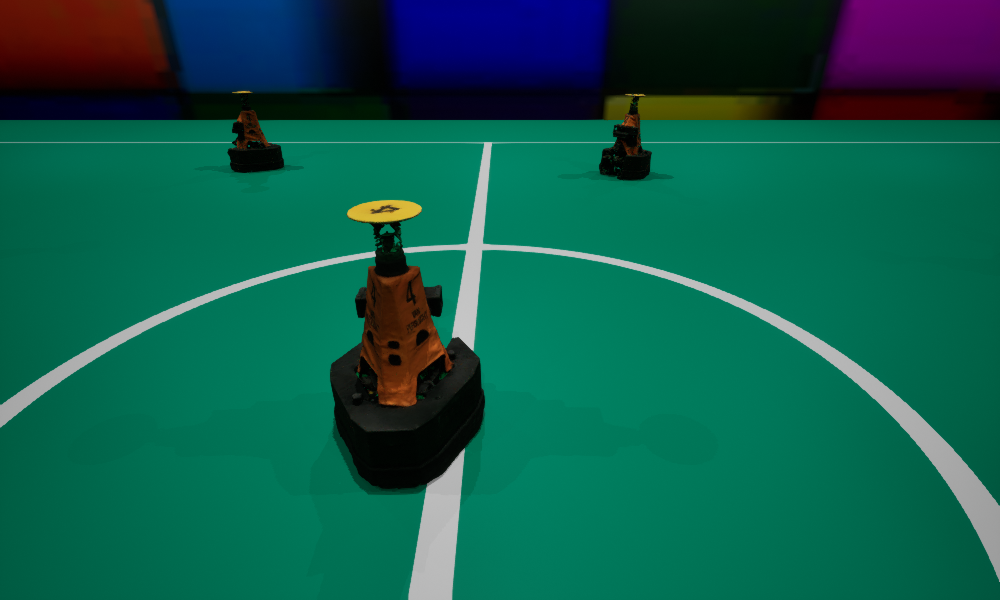0 orange robot TechUnited: (330, 200, 484, 488), (227, 91, 283, 171), (599, 94, 651, 179)
